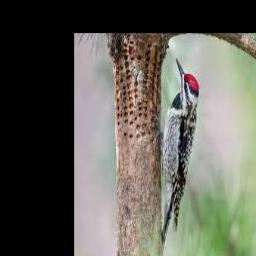Woodpecker: (160, 56, 198, 246)
